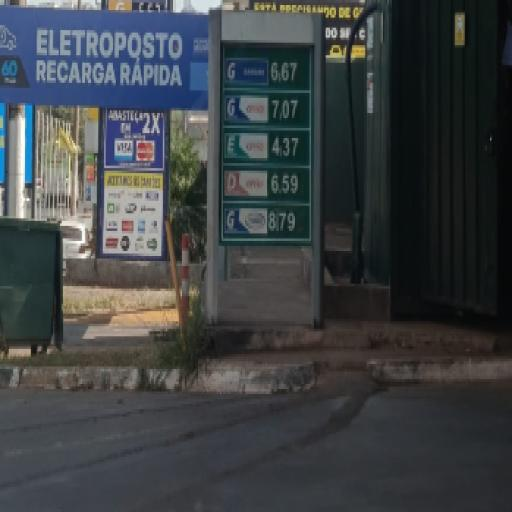ETANOL: (227, 133, 268, 161)
GASOLINA AD: (226, 95, 266, 124)
GASOLINA C: (228, 60, 267, 85)
S10: (226, 172, 268, 196)
placa: (211, 11, 320, 266)
preco: (271, 95, 304, 122), (272, 134, 304, 161), (270, 59, 300, 85), (271, 175, 303, 194)
